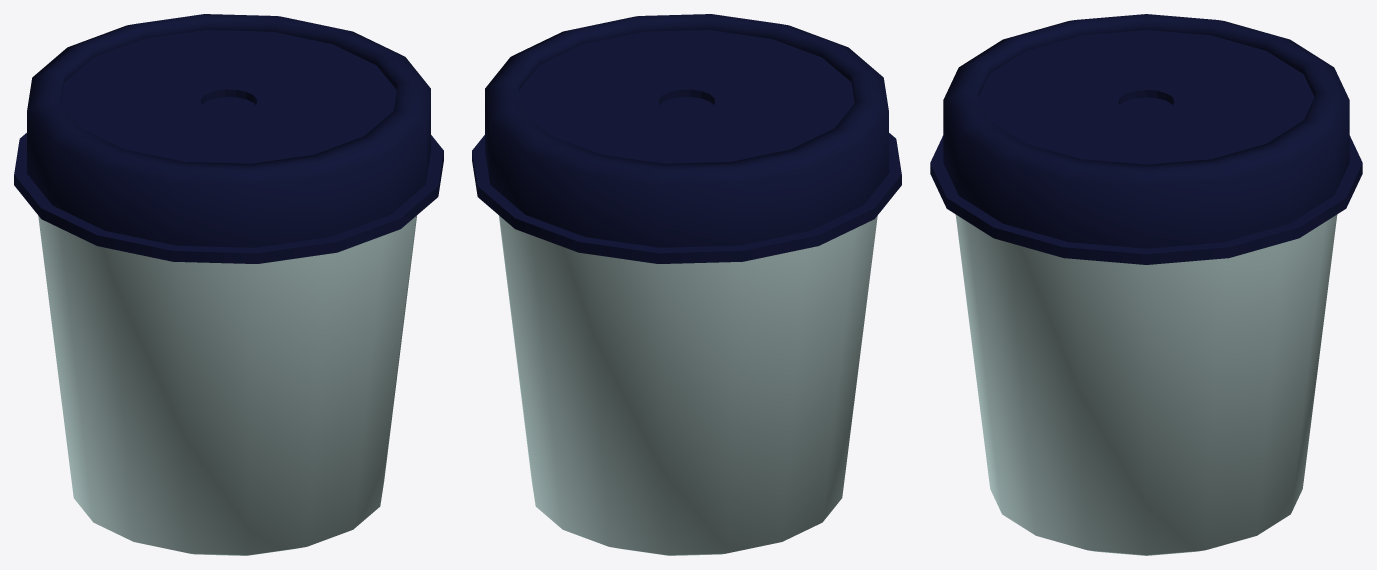
The model's file is FrascoAzul.fbx.
3 renders of one model, left to right at view 1: azimuth 30°, elevation 25°; view 2: azimuth 150°, elevation 25°; view 3: azimuth 270°, elevation 25°, orthographic.
Parts seen in each view (by area): view 1: FrascoColeta; view 2: FrascoColeta; view 3: FrascoColeta.
Part boxes in pixels (x1=…): FrascoColeta: x1=14, y1=14, x2=443, y2=555; FrascoColeta: x1=472, y1=14, x2=901, y2=555; FrascoColeta: x1=930, y1=14, x2=1362, y2=555.
Size of the model in its own units: 52.36 by 54.39 by 52.36.
